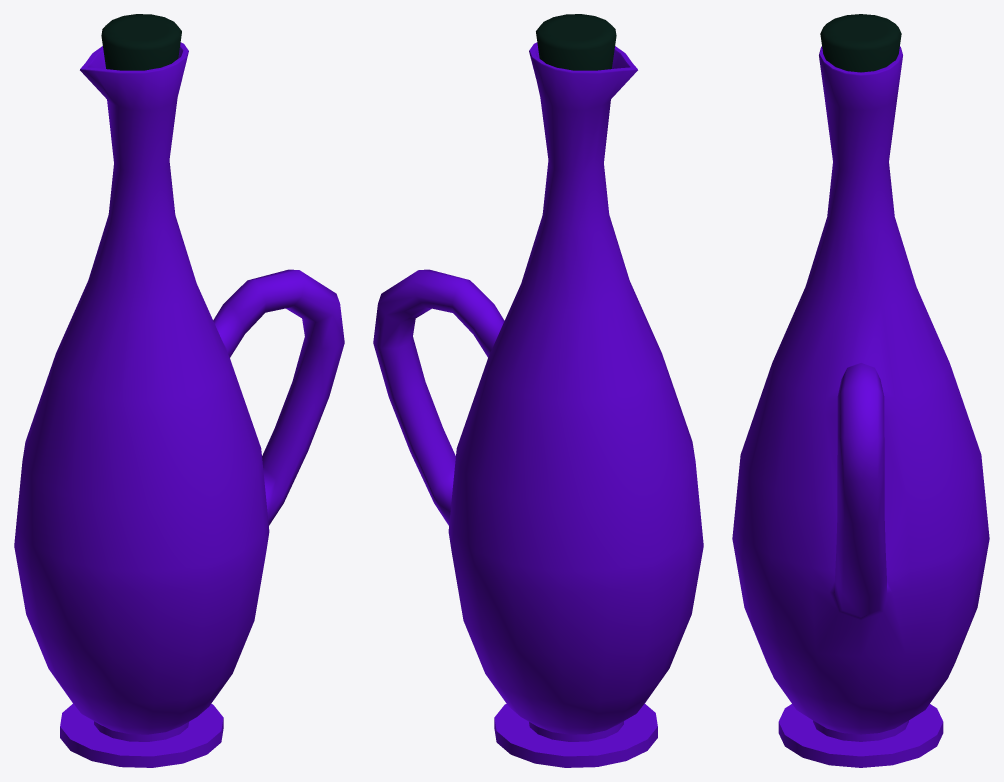
The model's file is Glass Bottle 04.fbx.
The picture shows the model from 3 angles, left to right: view 1: azimuth 30°, elevation 25°; view 2: azimuth 150°, elevation 25°; view 3: azimuth 270°, elevation 25°; orthographic projection.
Parts seen in each view (by area): view 1: Glass_bottle_04; view 2: Glass_bottle_04; view 3: Glass_bottle_04.
Part boxes in pixels (bbox=[...]): Glass_bottle_04: bbox=[14, 14, 344, 767]; Glass_bottle_04: bbox=[373, 14, 703, 767]; Glass_bottle_04: bbox=[732, 14, 989, 767].
Size of the model in its own units: 13.76 by 29.75 by 9.86.
